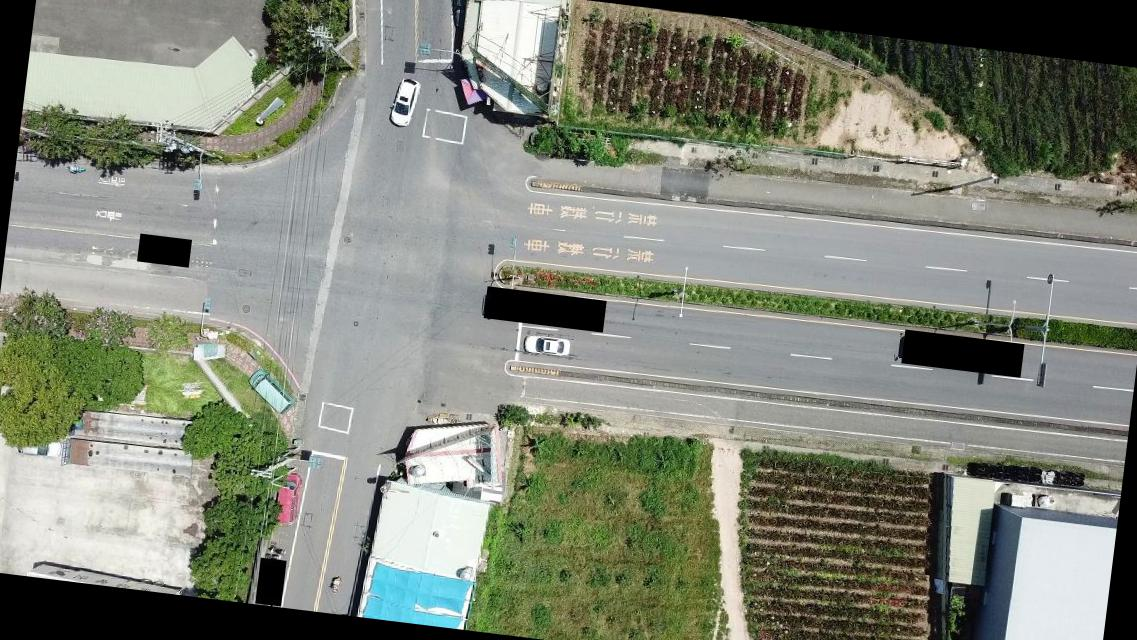vehicle: (243, 372, 292, 418), (272, 468, 304, 528), (387, 76, 419, 130), (520, 332, 570, 359), (14, 436, 60, 461), (445, 0, 466, 29)
